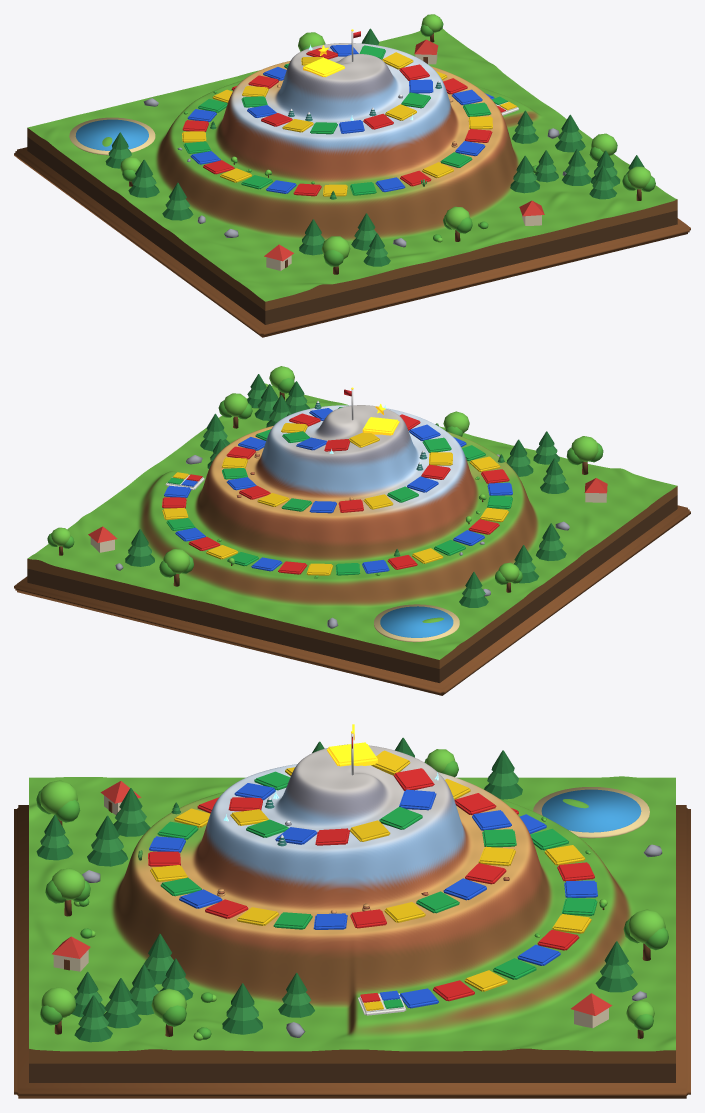
The model's file is tablero_montana.glb.
The picture shows the model from 3 angles, top to bottom: view 1: azimuth 30°, elevation 25°; view 2: azimuth 150°, elevation 25°; view 3: azimuth 270°, elevation 25°; orthographic projection. The views are drawn at different scales.
Visible parts, largest first — view 1: Montana, Base_Faldon, Base_Madera, Deco_Lago_Agua, Deco_Lago_Arena, Deco_pine_005, Deco_round_006, Deco_round_000, Deco_pine_003, Deco_pine_006, Deco_pine_004, Deco_pine_002 (+11 smaller); view 2: Montana, Base_Faldon, Base_Madera, Deco_Lago_Agua, Deco_round_006, Deco_Lago_Arena, Deco_round_003, Deco_round_004, Deco_pine_003, Deco_pine_009, Deco_pine_010, Deco_pine_011 (+9 smaller); view 3: Montana, Base_Faldon, Base_Madera, Deco_Lago_Agua, Deco_round_003, Deco_round_006, Deco_round_001, Deco_pine_004, Deco_pine_009, Deco_pine_001, Deco_Lago_Arena, Deco_pine_014 (+39 smaller).
Part boxes in pixels (<box>): Montana: <box>27,28,677,301</box>; Base_Faldon: <box>27,128,677,324</box>; Base_Madera: <box>14,147,690,337</box>; Deco_Lago_Agua: <box>75,119,148,150</box>; Deco_Lago_Arena: <box>69,117,155,155</box>; Deco_pine_005: <box>128,159,159,197</box>; Deco_round_006: <box>321,236,350,274</box>; Deco_round_000: <box>622,166,655,200</box>; Deco_pine_003: <box>162,182,193,220</box>; Deco_pine_006: <box>510,155,539,193</box>; Deco_pine_004: <box>555,114,585,152</box>; Deco_pine_002: <box>562,149,591,185</box>; Montana: <box>28,383,677,659</box>; Base_Faldon: <box>27,486,677,682</box>; Base_Madera: <box>14,505,690,695</box>; Deco_Lago_Agua: <box>380,606,453,637</box>; Deco_round_006: <box>566,436,603,474</box>; Deco_Lago_Arena: <box>374,604,459,642</box>; Deco_round_003: <box>159,549,193,586</box>; Deco_round_004: <box>218,393,252,428</box>; Deco_pine_003: <box>536,523,566,560</box>; Deco_pine_009: <box>125,529,154,566</box>; Deco_pine_010: <box>540,458,569,493</box>; Deco_pine_011: <box>459,572,488,607</box>; Montana: <box>29,744,675,1051</box>; Base_Faldon: <box>29,1048,675,1082</box>; Base_Madera: <box>14,805,690,1098</box>; Deco_Lago_Agua: <box>541,789,641,832</box>; Deco_round_003: <box>623,909,668,960</box>; Deco_round_006: <box>36,780,80,826</box>; Deco_round_001: <box>45,868,90,916</box>; Deco_pine_004: <box>222,983,262,1034</box>; Deco_pine_009: <box>595,941,637,992</box>; Deco_pine_001: <box>87,815,127,866</box>; Deco_Lago_Arena: <box>533,787,649,838</box>; Deco_pine_014: <box>103,978,141,1028</box>.
Size of the model in its own units: 27.2 by 10.05 by 27.2.
